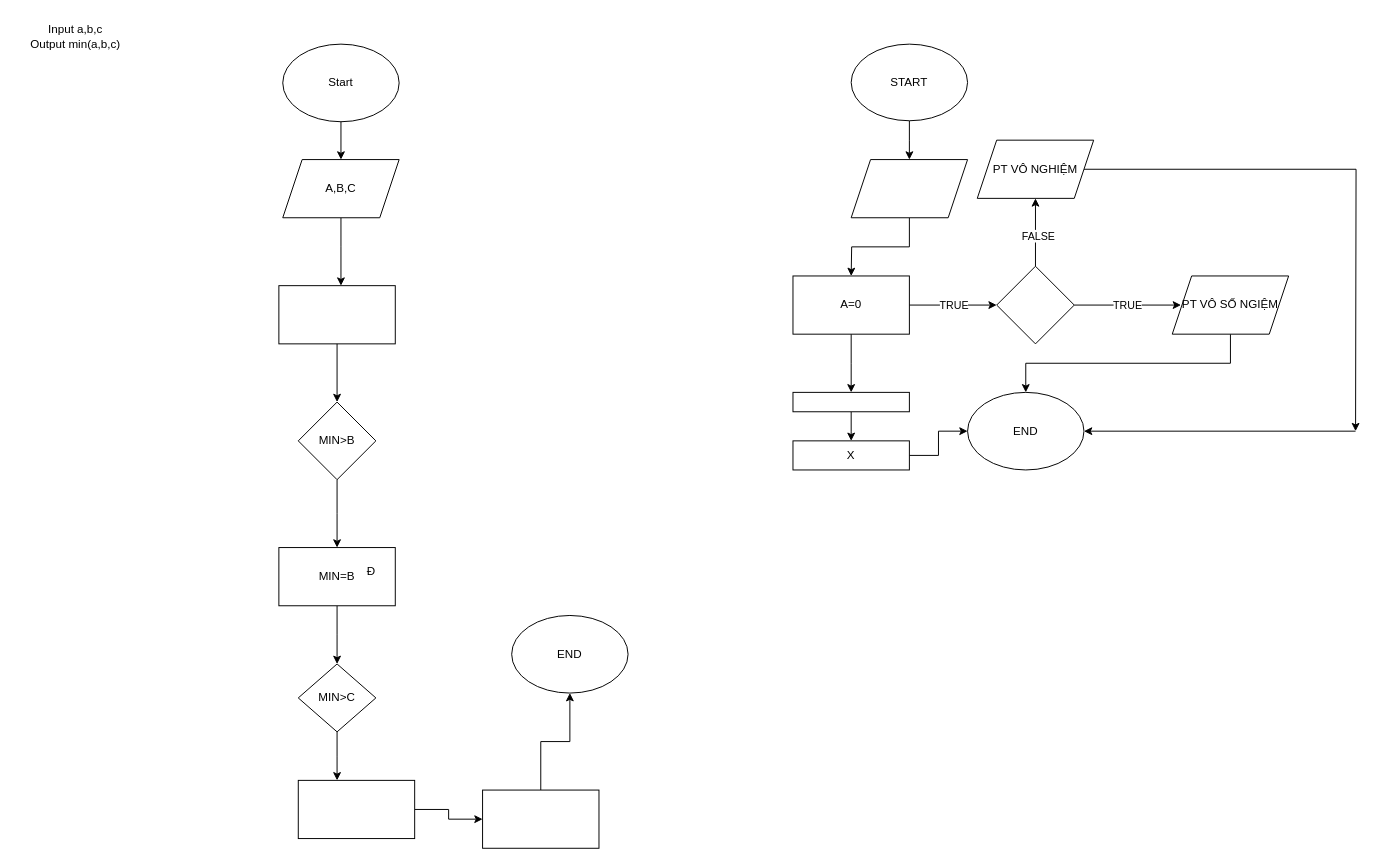
Some shapes in this 1380 by 865 pixel diagram are drawn without their labels. Each missing label, with the centre of its shape:
"A,B" goes at [909,188].
"A=MIN" goes at [336,314].
"B=0" goes at [1035,304].
"MIN" goes at [540,818].
"MIN=C" goes at [356,809].
"X=B/A" goes at [850,401].
